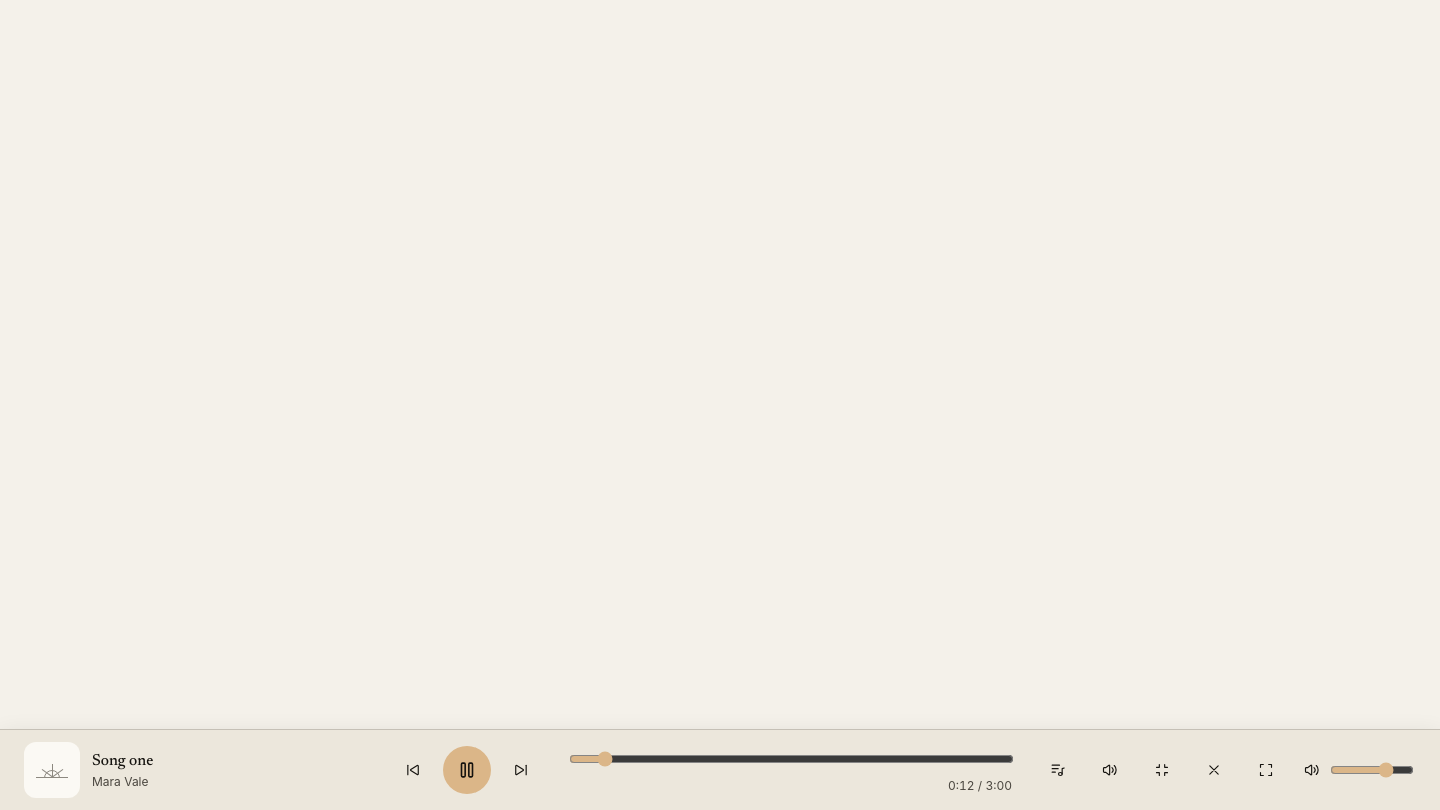
MusicPlayer › replaces a partial pending lyrics reply with the provider error
What coordinates should you click on to do the following:
click the button with aria-label "Open listening room for Song one"
I would click on:
 (52, 770)
Its box is [24,742,367,798].
Wait 5000 ms
(page scrolled)
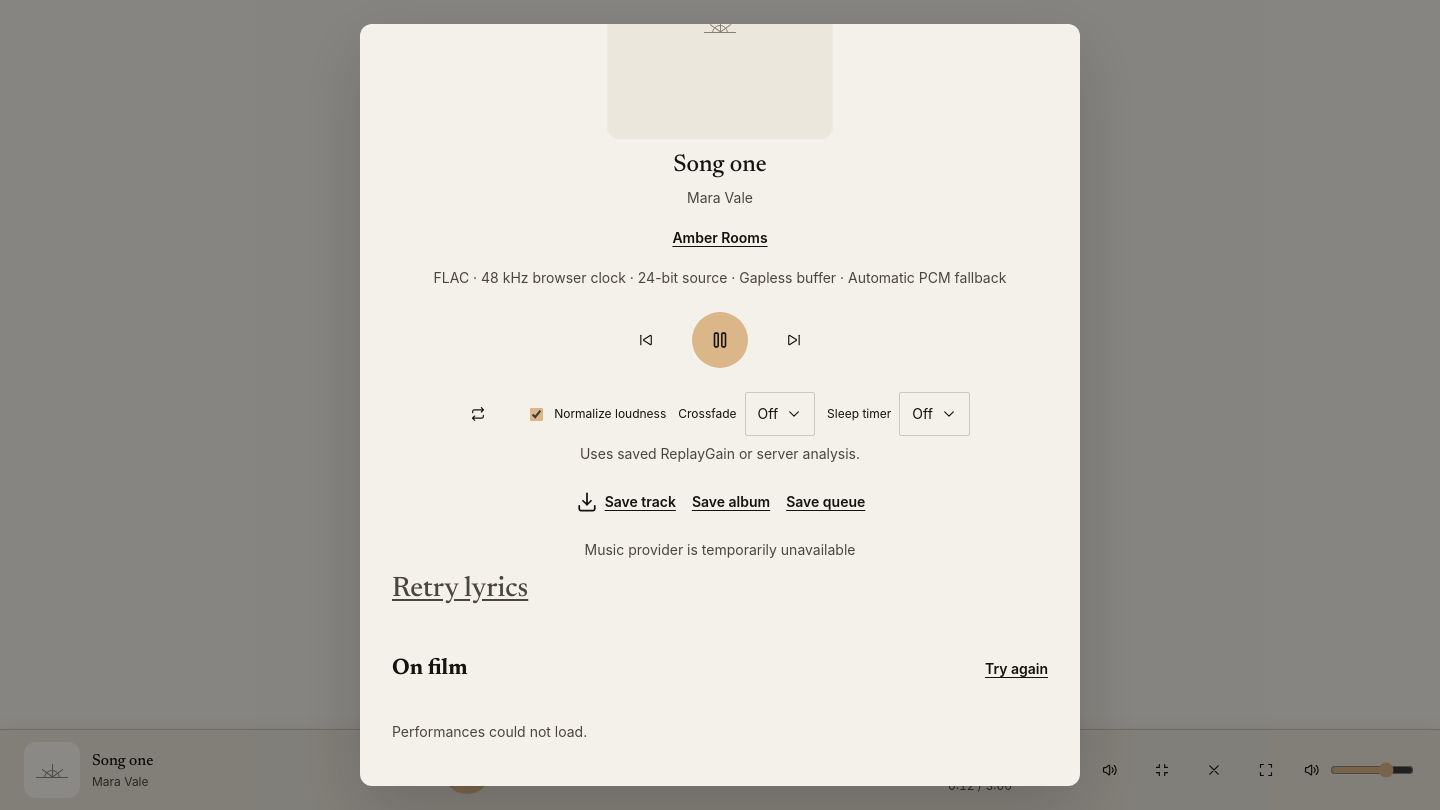
Expected: the text "Music provider is temporarily unavailable" is shown, [584,542,856,558]
